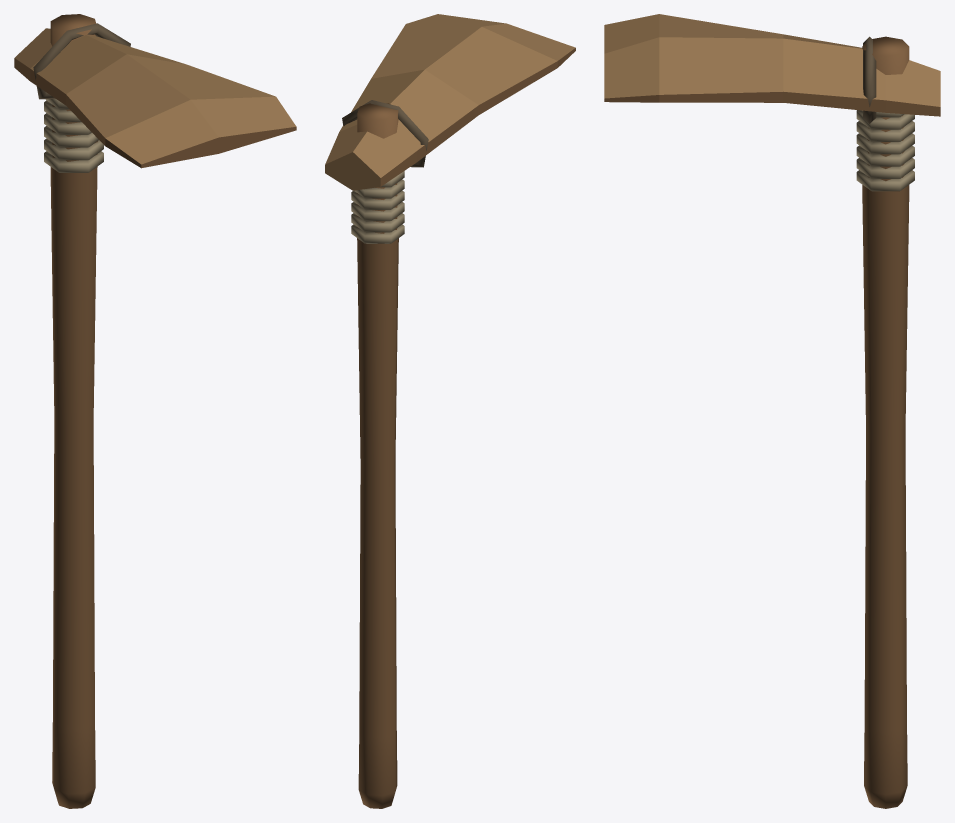
The model's file is wooden_hoe_lod0.glb.
3 views of the same model, side by side, from view 1: azimuth 30°, elevation 25°; view 2: azimuth 150°, elevation 25°; view 3: azimuth 270°, elevation 25° (orthographic). The views are drawn at different scales.
Parts seen in each view (by area): view 1: wooden_hoe_lod0; view 2: wooden_hoe_lod0; view 3: wooden_hoe_lod0.
Part boxes in pixels (x1,y1,x2,y2): wooden_hoe_lod0: [14, 14, 296, 808]; wooden_hoe_lod0: [325, 14, 575, 808]; wooden_hoe_lod0: [604, 14, 940, 808].
Bounding box in the file's own units: 0.262 × 1.15 × 0.46.
